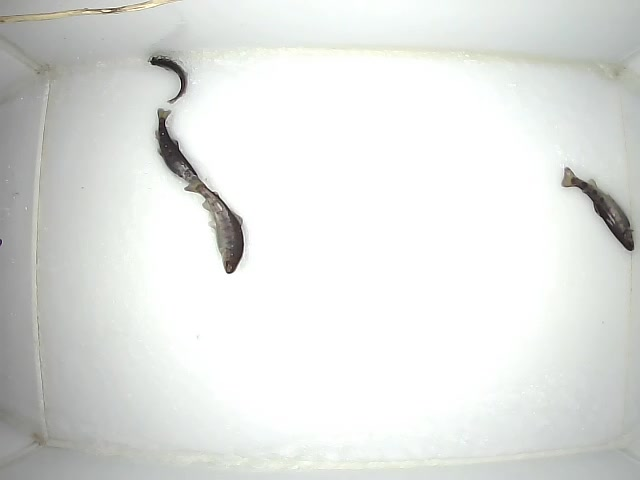fish: (560, 166, 635, 254), (182, 175, 245, 274), (150, 106, 202, 189), (145, 55, 188, 104)
